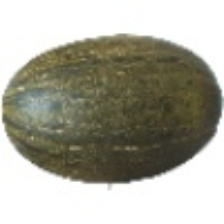honeydew: (10, 46, 200, 203)
